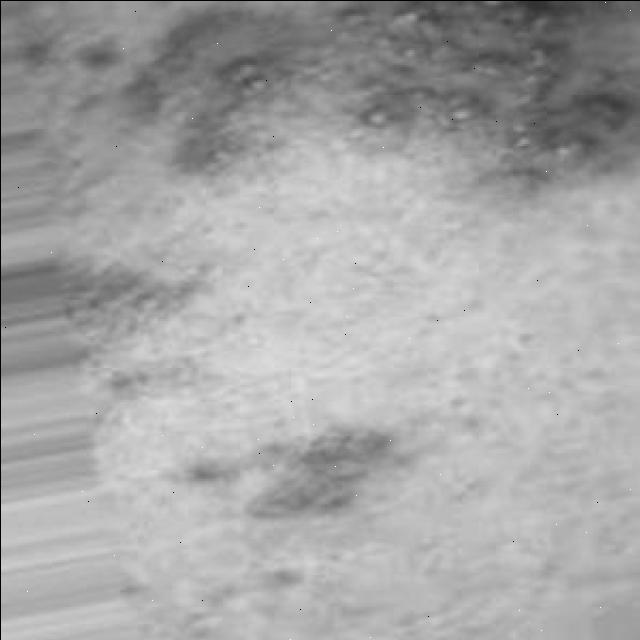Shingles: (132, 0, 625, 184), (179, 426, 392, 522)
